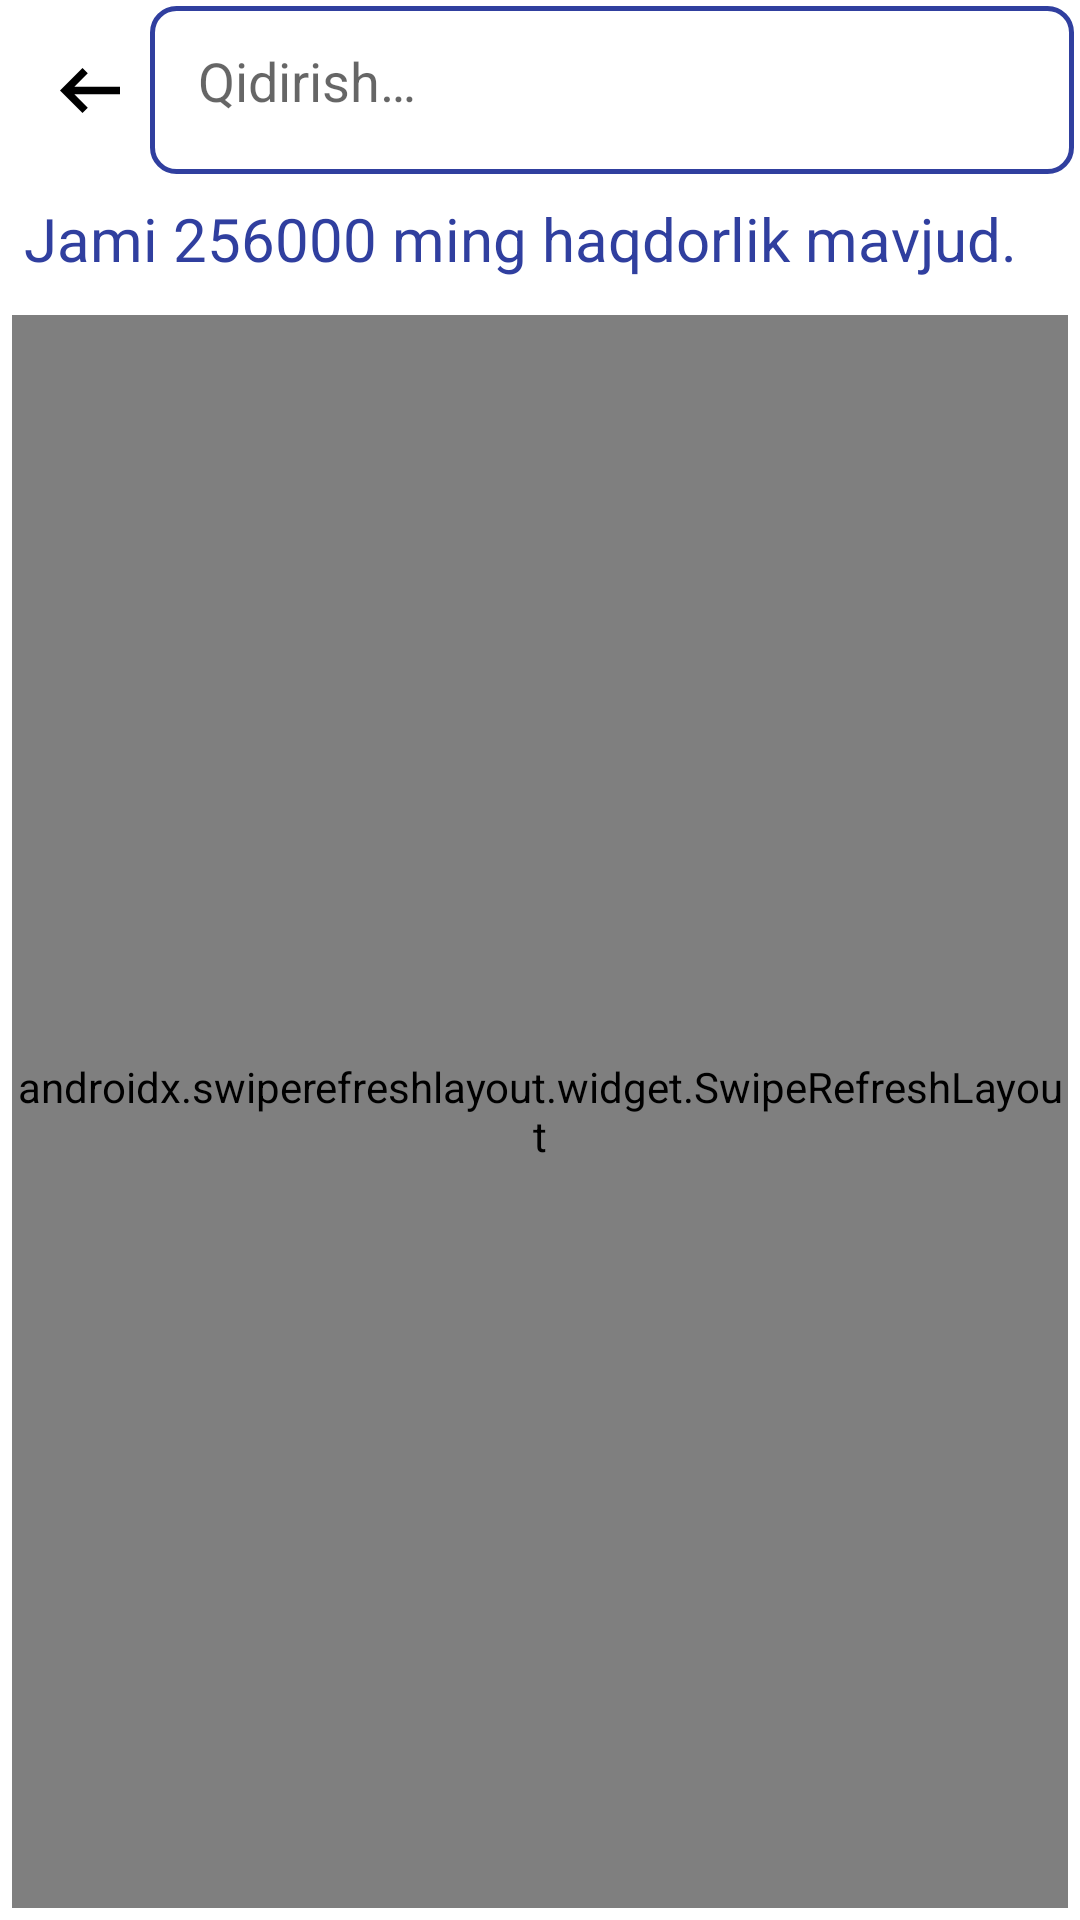

Icon click points for this 1080px×1920px phone screenshot, format point (x, y):
back: point (90, 90)
